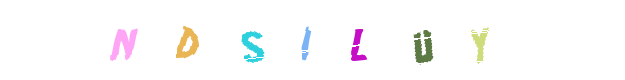D: (212, 0, 292, 80)
I: (264, 0, 344, 80)
L: (273, 0, 353, 80)
N: (97, 0, 177, 80)
S: (253, 0, 333, 80)
U: (317, 0, 397, 80)
Y: (383, 0, 463, 80)
